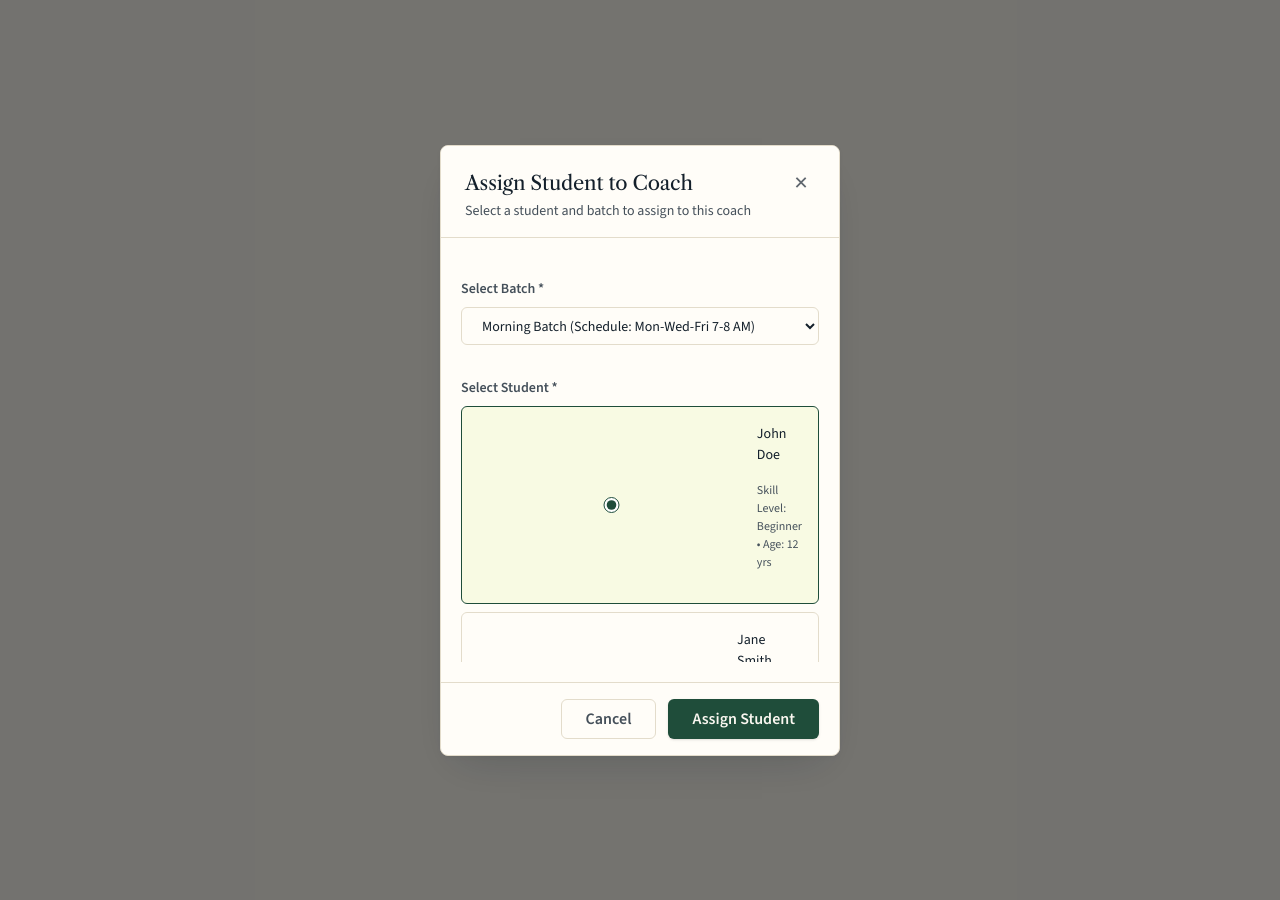
Test: AddStudentModal › prevents modal close during assignment
This screenshot has width=1280, height=900.
Check: the text "John Doe" is shown, box [757, 424, 786, 464]
Click the button "Assign Student": (744,718) [668, 698, 819, 738]
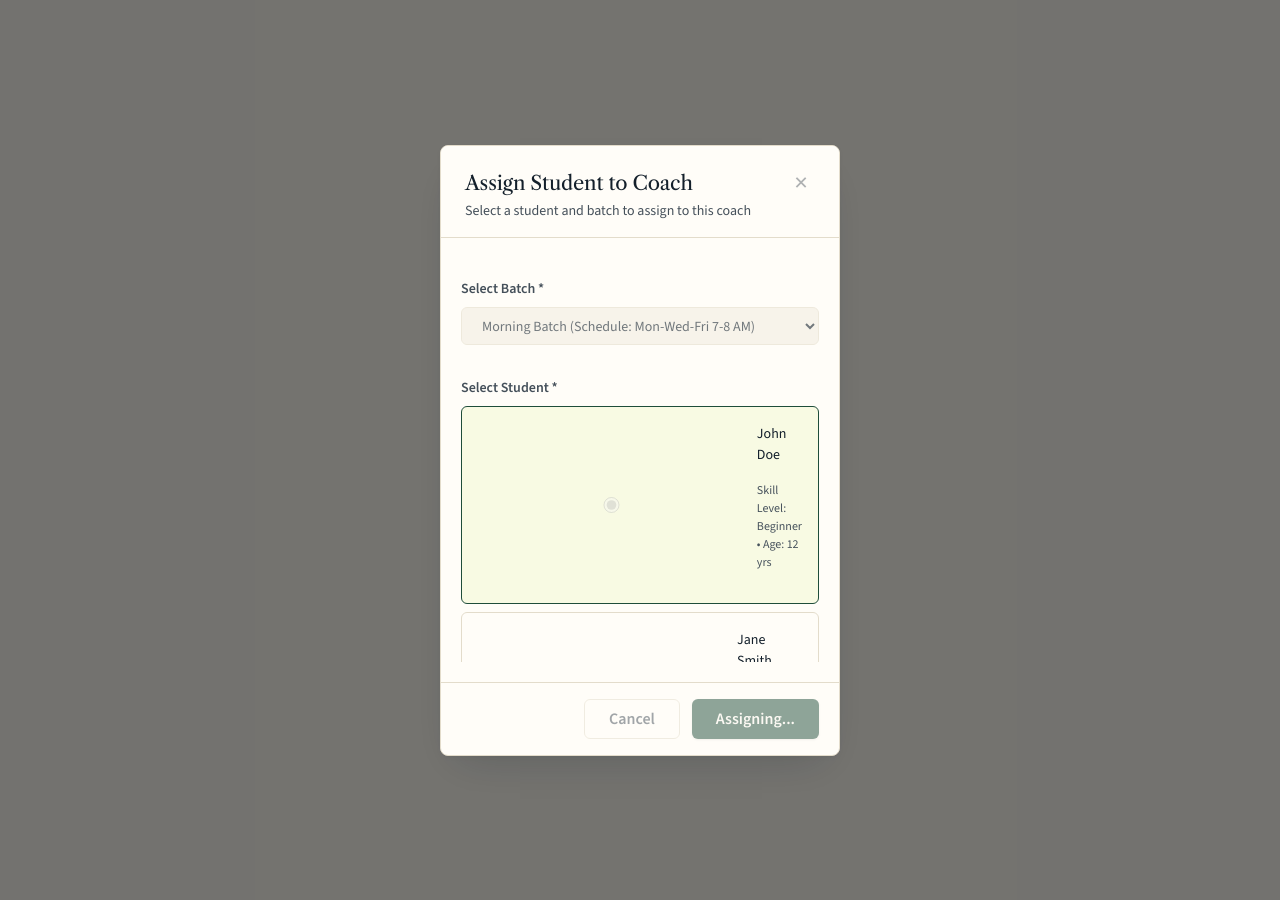
Check: the button named "Close modal" is disabled, box [787, 170, 815, 198]
